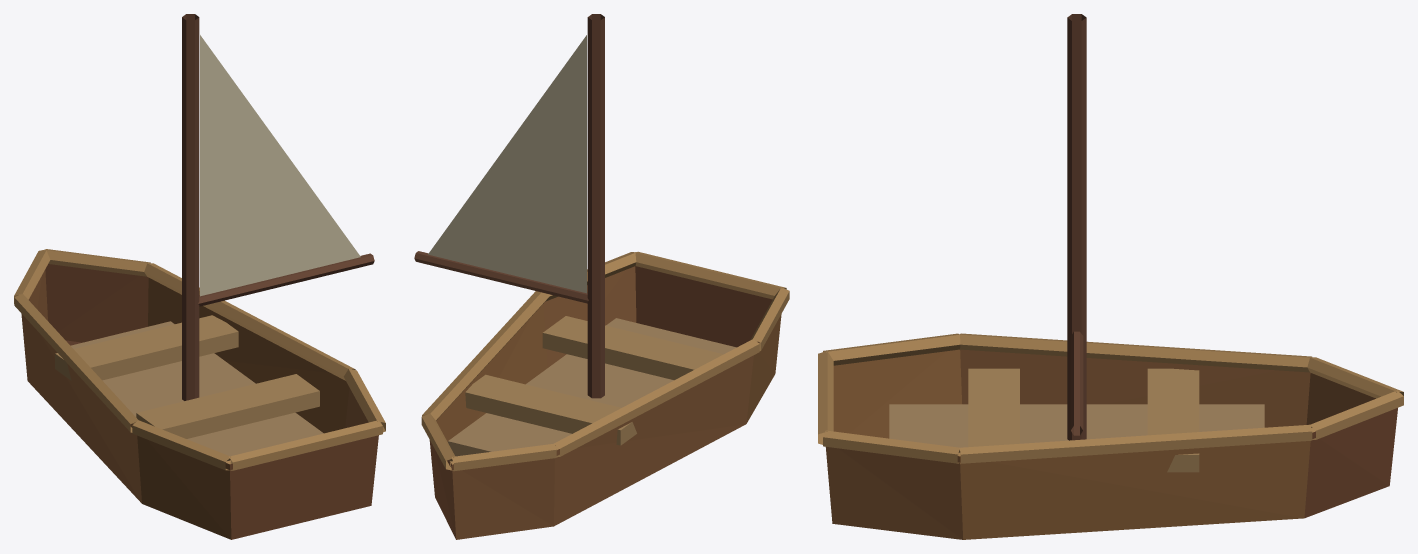
3 views of the same model, side by side, from view 1: azimuth 30°, elevation 25°; view 2: azimuth 150°, elevation 25°; view 3: azimuth 270°, elevation 25° (orthographic). The views are drawn at different scales.
Parts seen in each view (by area): view 1: H06_单帆小船; view 2: H06_单帆小船; view 3: H06_单帆小船.
Boxes of the visible parts, bbox=[...] form: H06_单帆小船: bbox=[14, 14, 385, 539]; H06_单帆小船: bbox=[414, 14, 789, 539]; H06_单帆小船: bbox=[818, 14, 1403, 539].
Size of the model in its own units: 1.09 by 1.5 by 1.7.
